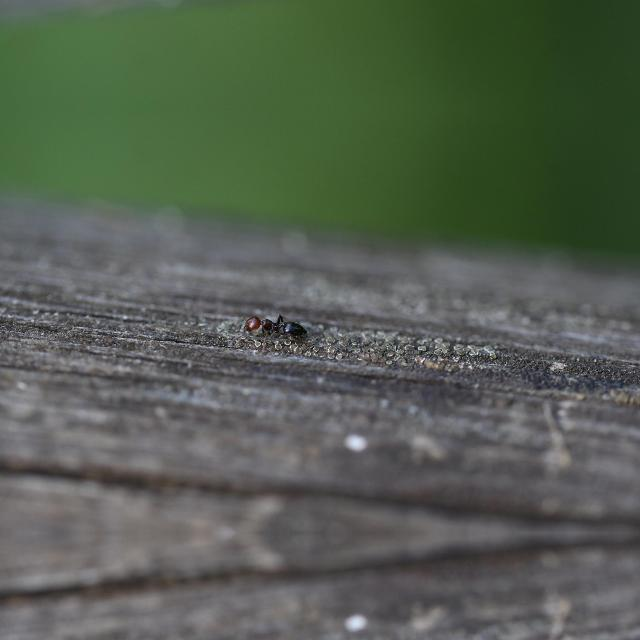Crematogaster: (232, 308, 310, 344)
